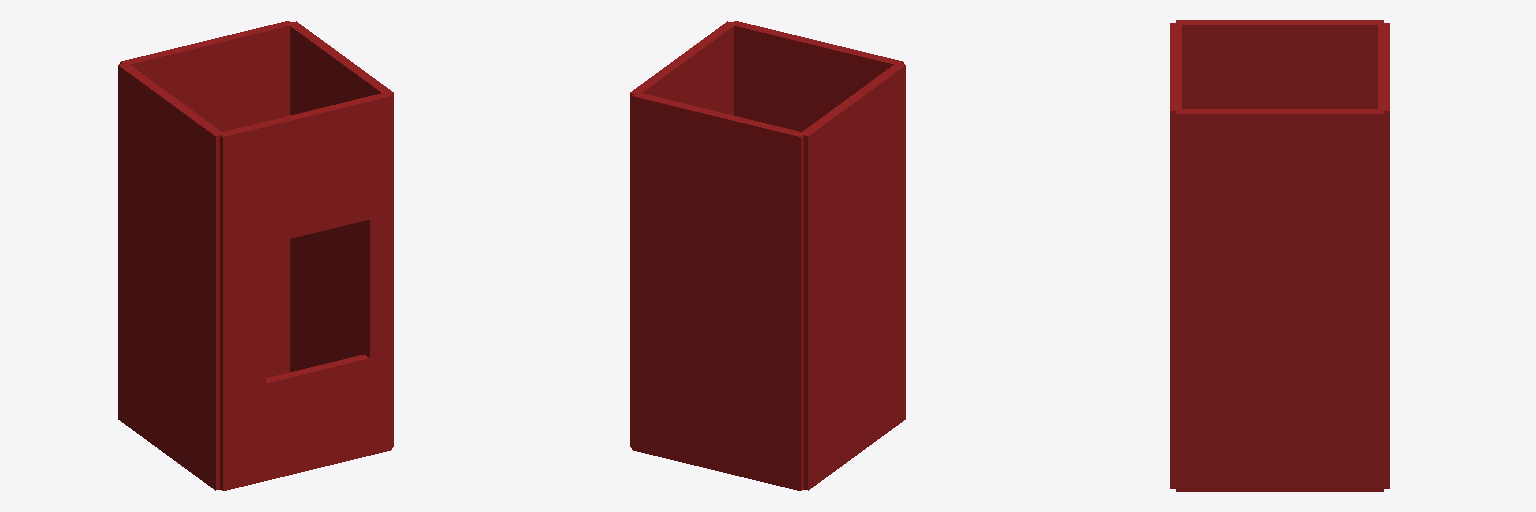
robot.urdf — drcbox-drcbox-base-0-robot:
<?xml version="1.0"?>
<robot name="drcbox-drcbox-base-0-robot"
       xmlns:xi="http://www.w3.org/2001/XInclude"
       xmlns:gazebo="http://playerstage.sourceforge.net/gazebo/xmlschema/#gz"
       xmlns:model="http://playerstage.sourceforge.net/gazebo/xmlschema/#model"
       xmlns:sensor="http://playerstage.sourceforge.net/gazebo/xmlschema/#sensor"
       xmlns:body="http://playerstage.sourceforge.net/gazebo/xmlschema/#body"
       xmlns:geom="http://playerstage.sourceforge.net/gazebo/xmlschema/#geom"
       xmlns:joint="http://playerstage.sourceforge.net/gazebo/xmlschema/#joint"
       xmlns:interface="http://playerstage.sourceforge.net/gazebo/xmlschema/#interface"
       xmlns:rendering="http://playerstage.sourceforge.net/gazebo/xmlschema/#rendering"
       xmlns:renderable="http://playerstage.sourceforge.net/gazebo/xmlschema/#renderable"
       xmlns:controller="http://playerstage.sourceforge.net/gazebo/xmlschema/#controller"
       xmlns:physics="http://playerstage.sourceforge.net/gazebo/xmlschema/#physics">
  <gazebo>
    <static>false</static>
  </gazebo>
  <link name="nil_link">
    <visual>
      <origin xyz="0 0 0" rpy="0 -0 0"/>
      <geometry>
        <mesh filename="model://drcbox-drcbox-base-0/meshes/nil_link_mesh.dae" scale="1 1 1" />
      </geometry>
    </visual>
    <collision>
      <origin xyz="0 0 0" rpy="0 -0 0"/>
      <geometry>
        <mesh filename="model://drcbox-drcbox-base-0/meshes/nil_link_mesh.dae" scale="1 1 1" />
      </geometry>
    </collision>
    <inertial>
      <mass value="10" />
      <origin xyz="0 0 0" rpy="0 -0 0"/>
      <inertia ixx="1e-02" ixy="0" ixz="0" iyy="1e-02" iyz="0" izz="1e-02"/>
    </inertial>
  </link>
  <gazebo reference="nil_link">
    <mu1>9.0</mu1>
    <mu2>9.0</mu2>
  </gazebo>
</robot>

--- What the picture shows (computed from the rendered views, not written in the file) ---
Views: 3 orthographic renders of the robot side by side, from view 1: azimuth 30°, elevation 25°; view 2: azimuth 150°, elevation 25°; view 3: azimuth 270°, elevation 25°.
Robot: drcbox-drcbox-base-0-robot — 1 links, 0 joints (none); root link nil_link; default pose: all joints at 0.
Links seen in each view (by area): view 1: nil_link; view 2: nil_link; view 3: nil_link.
Link boxes in pixels (x1,y1,x2,y2): nil_link: [118, 21, 393, 490]; nil_link: [630, 21, 905, 490]; nil_link: [1170, 20, 1389, 491].
Size in the robot's own frame: 0.95 by 0.95 by 1.8 metres.
Meshes: 1 distinct files referenced, 1 mesh visuals loaded (1 Collada DAE).